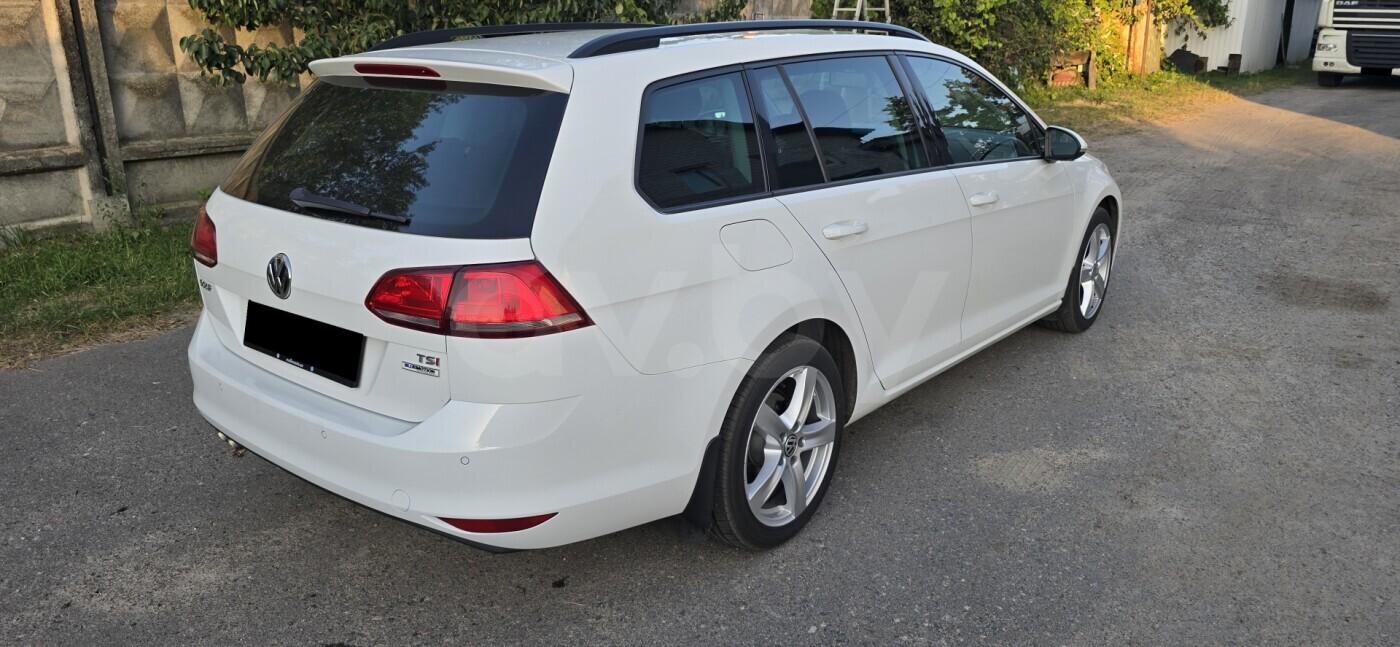Golf_2012-2017: (182, 18, 1128, 560)
